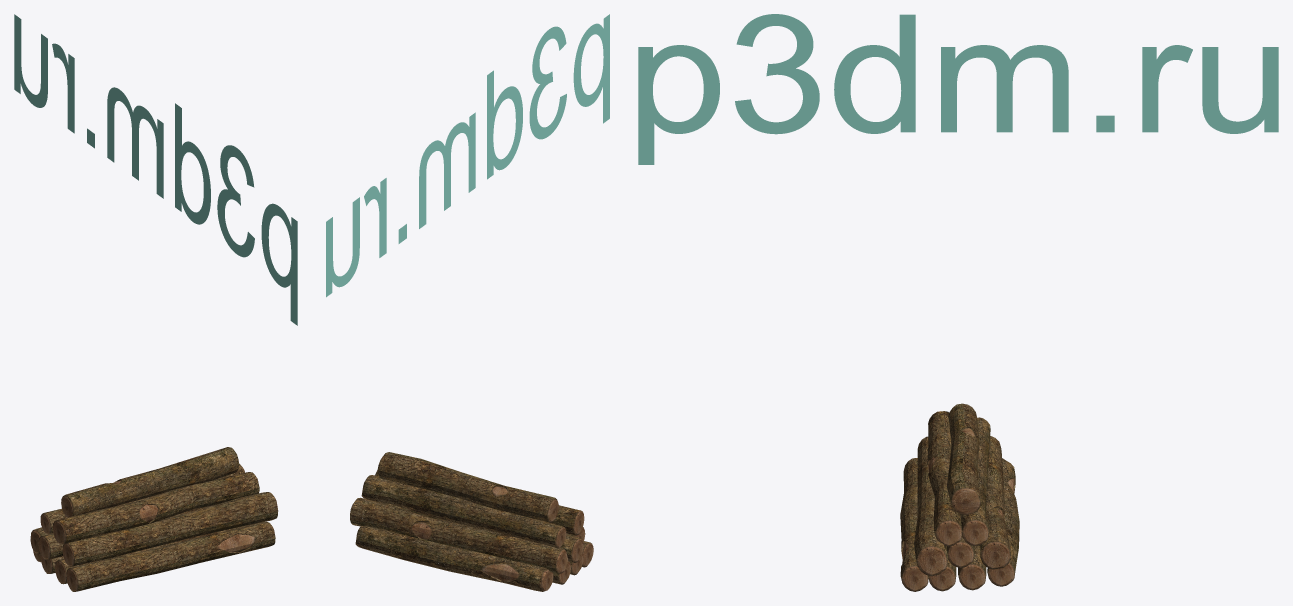
File: p3dm.ru_Wood.obj
3 views of the same model, side by side, from view 1: azimuth 30°, elevation 25°; view 2: azimuth 150°, elevation 25°; view 3: azimuth 270°, elevation 25° (orthographic). The views are drawn at different scales.
Visible parts, largest first — view 1: DrawCall_0177, Text001; view 2: DrawCall_0177, Text001; view 3: Text001, DrawCall_0177.
Boxes of the visible parts, <box> form: DrawCall_0177: <box>30,447,278,591</box>; Text001: <box>14,14,297,325</box>; DrawCall_0177: <box>350,452,593,591</box>; Text001: <box>326,14,609,297</box>; Text001: <box>638,14,1278,164</box>; DrawCall_0177: <box>900,403,1019,591</box>.
Size of the model in its own units: 3.96 by 8.09 by 8.93.
